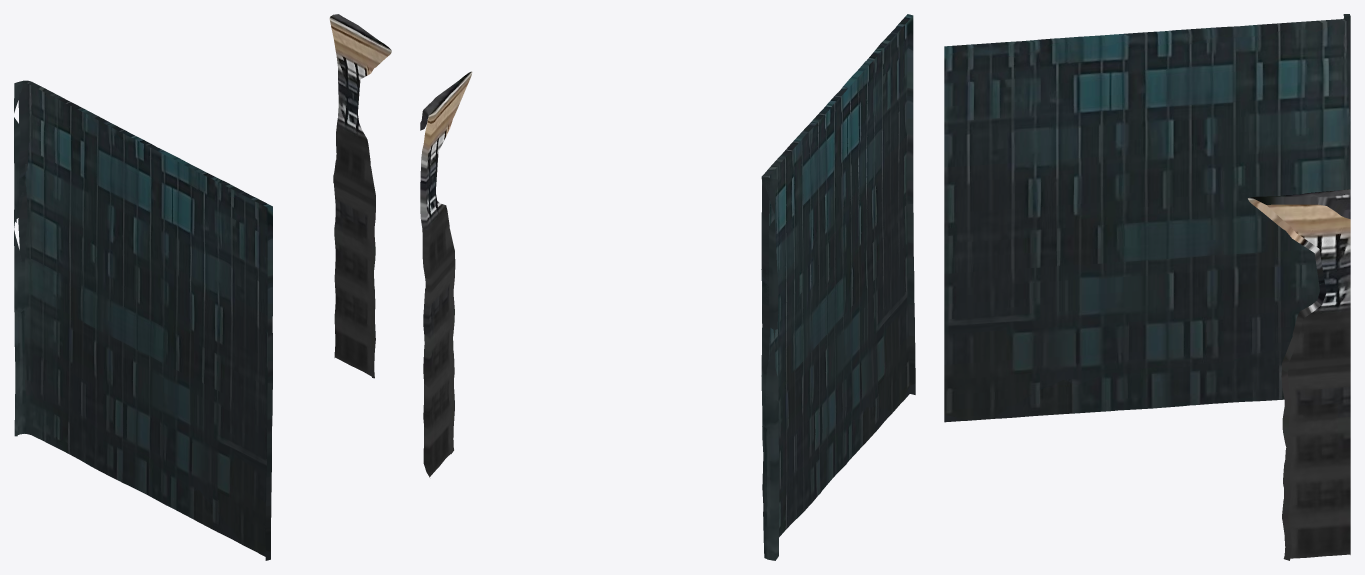
Rendered from z20-167771-405236-h1-yup-uvflip-v3-world.glb.
3 views of the same model, side by side, from view 1: azimuth 30°, elevation 25°; view 2: azimuth 150°, elevation 25°; view 3: azimuth 270°, elevation 25° (orthographic). The views are drawn at different scales.
Size of the model in its own units: 30.16 by 31 by 30.32.
1 material, 1 textured.
